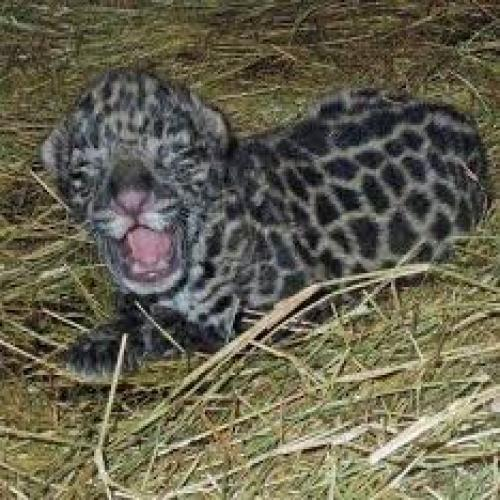jaguar_not-endangered: (47, 71, 488, 331), (424, 431, 424, 432)
